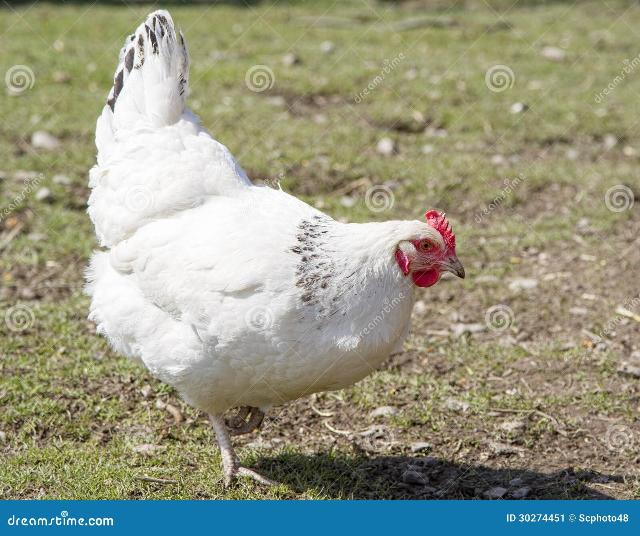Chicken: (84, 8, 466, 487)
